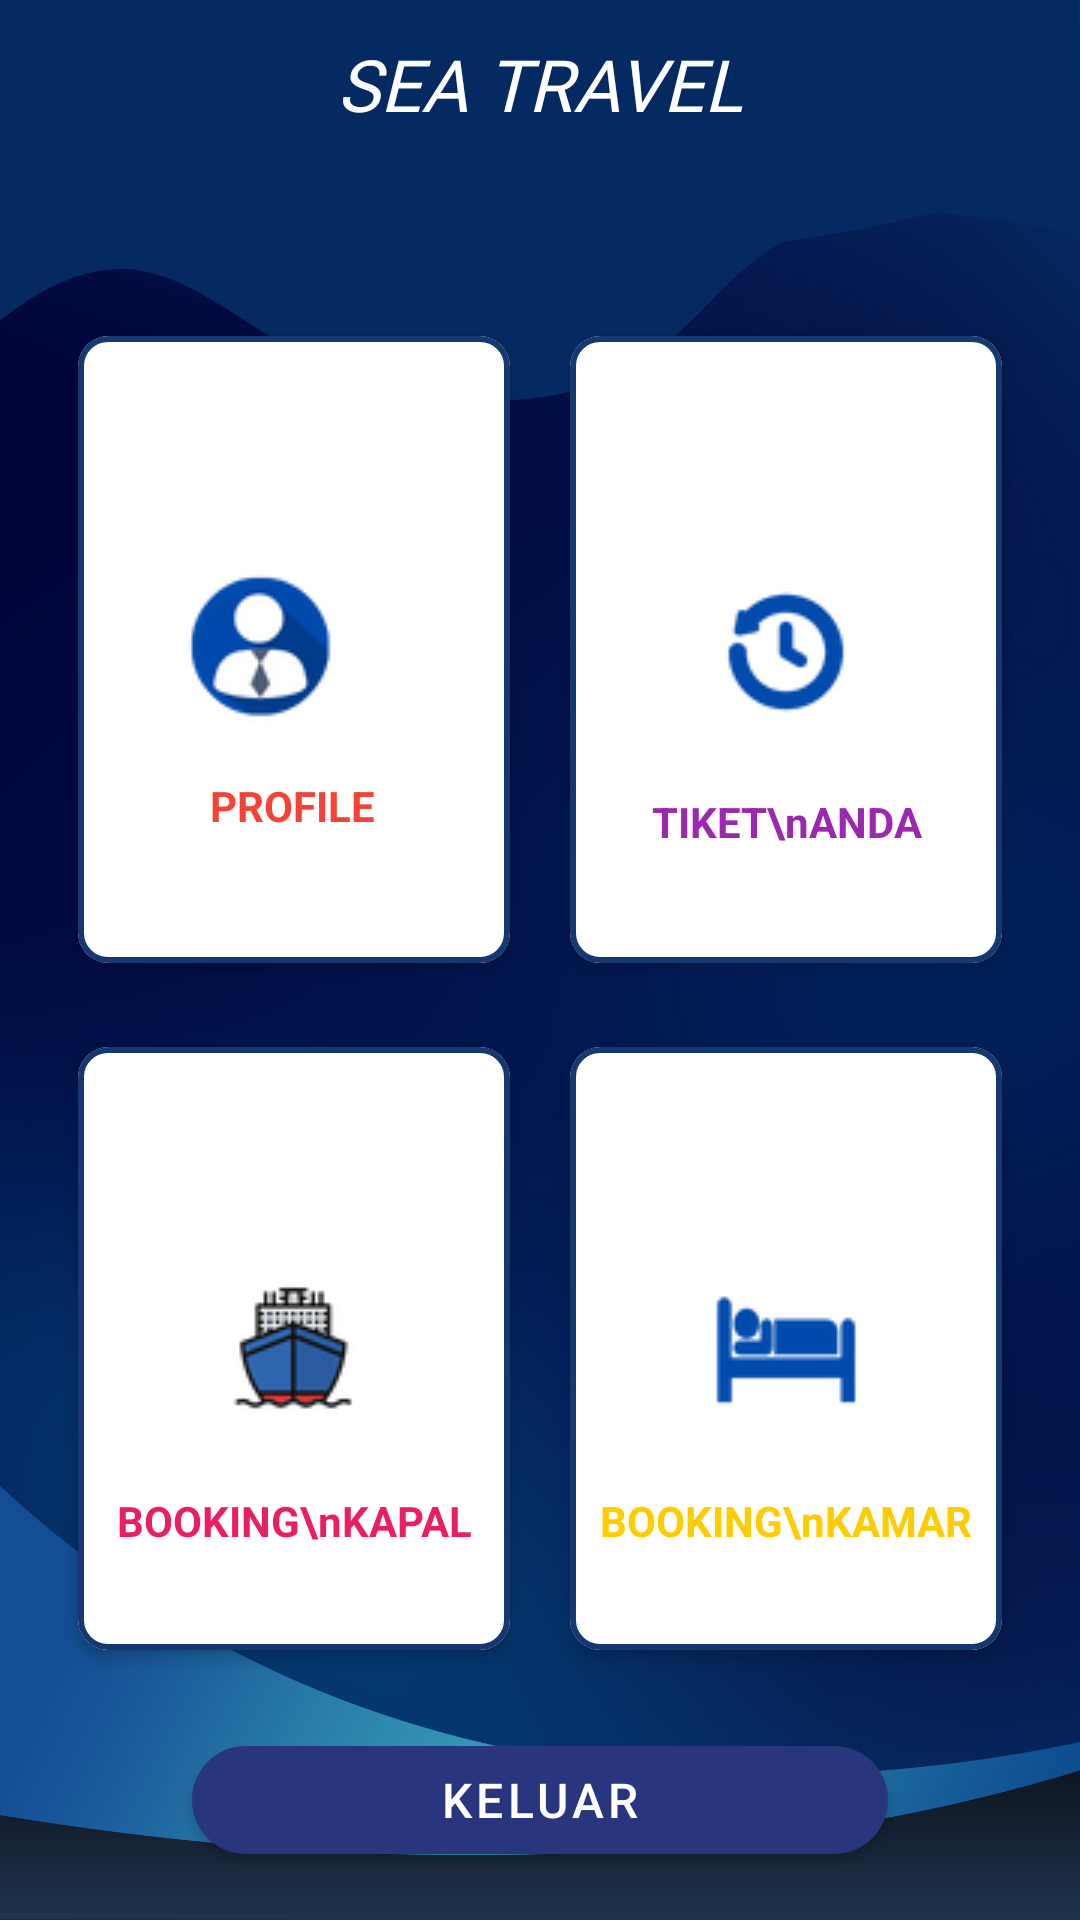

Screen size 1080px×1920px. Icon name, then its box in pixels as (x1, y1, x2, y2):
riwayat: (728, 592, 844, 712)
